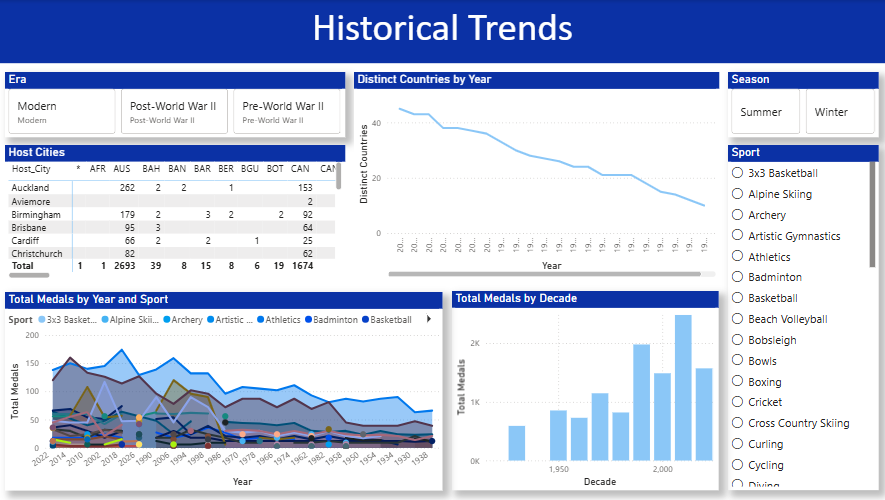

The page's visual inventory and layout, read from the dashboard file:
{"tool":"powerbi","page":{"name":"Historical Trends","canvas":[1280,720],"ordinal":3},"visuals":[{"type":"textbox","box":[0,0,1280,91.4],"z":0},{"type":"advancedSlicerVisual","fields":{"Values":["Commonwealth_Medalists_1930_2026.Season"]},"box":[1051.4,104.3,217.1,94.3],"z":1000},{"type":"advancedSlicerVisual","title":"Era","fields":{"Values":["Commonwealth_Medalists_1930_2026.Era"],"Label":["Min(Commonwealth_Medalists_1930_2026.Era)"]},"box":[10,104.3,490,94.3],"z":2000},{"type":"listSlicer","fields":{"Values":["Commonwealth_Medalists_1930_2026.Sport"]},"box":[1051.4,208.6,217.1,497.1],"z":3000},{"type":"columnChart","fields":{"Y":["Commonwealth_Medalists_1930_2026.Total Medals"],"Category":["Commonwealth_Medalists_1930_2026.Decade"]},"box":[654.3,418.6,384.3,287.1],"z":4000},{"type":"areaChart","fields":{"Series":["Commonwealth_Medalists_1930_2026.Sport"],"Y":["Commonwealth_Medalists_1930_2026.Total Medals"],"Category":["Commonwealth_Medalists_1930_2026.Year"]},"box":[10,420,630,285.7],"z":5000},{"type":"pivotTable","title":"Host Cities","fields":{"Rows":["Commonwealth_Medalists_1930_2026.Host_City"],"Columns":["Commonwealth_Medalists_1930_2026.Country_Code"],"Values":["Commonwealth_Medalists_1930_2026.Total Medals"]},"box":[10,208.6,490,197.1],"z":6000},{"type":"lineChart","fields":{"Y":["Commonwealth_Medalists_1930_2026.Distinct Countries"],"Category":["Commonwealth_Medalists_1930_2026.Year"]},"box":[512.9,104.3,525.7,300],"z":7000}]}

Visuals, with their boxes in screenshot pixels (x1, y1, x2, y2), scaled from the page's 1280x720 canvas onto the 885x500 screenshot:
textbox: {"x1": 0, "y1": 0, "x2": 884, "y2": 63}
advancedSlicerVisual - Commonwealth_Medalists_1930_2026.Season: {"x1": 727, "y1": 72, "x2": 877, "y2": 138}
"Era" advancedSlicerVisual: {"x1": 7, "y1": 72, "x2": 346, "y2": 138}
listSlicer - Commonwealth_Medalists_1930_2026.Sport: {"x1": 727, "y1": 145, "x2": 877, "y2": 490}
columnChart - Commonwealth_Medalists_1930_2026.Total Medals x Commonwealth_Medalists_1930_2026.Decade: {"x1": 452, "y1": 291, "x2": 718, "y2": 490}
areaChart - Commonwealth_Medalists_1930_2026.Sport x Commonwealth_Medalists_1930_2026.Total Medals: {"x1": 7, "y1": 292, "x2": 442, "y2": 490}
"Host Cities" pivotTable: {"x1": 7, "y1": 145, "x2": 346, "y2": 282}
lineChart - Commonwealth_Medalists_1930_2026.Distinct Countries x Commonwealth_Medalists_1930_2026.Year: {"x1": 355, "y1": 72, "x2": 718, "y2": 281}
